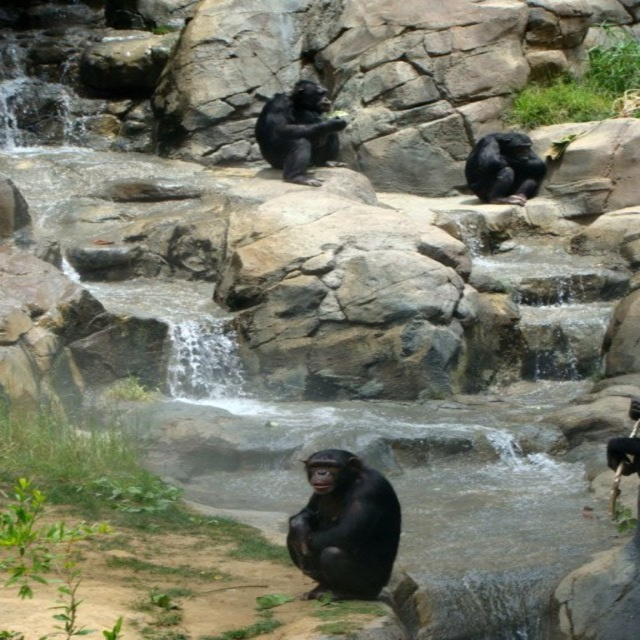Monkey: (283, 447, 404, 601), (256, 82, 347, 187), (463, 132, 549, 206)
